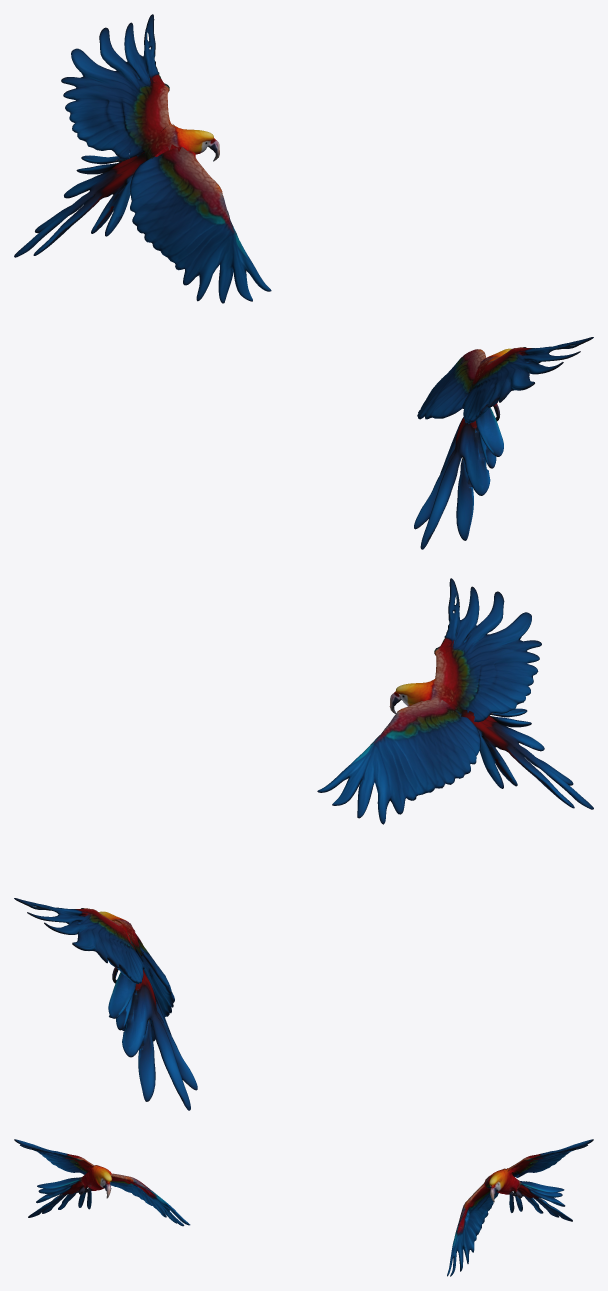
Rendered from Guacamaya.glb.
3 views of the same model, one above another, from view 1: azimuth 30°, elevation 25°; view 2: azimuth 150°, elevation 25°; view 3: azimuth 270°, elevation 25° (orthographic). The views are drawn at different scales.
Parts seen in each view (by area): view 1: tripo_node_5167a12f.004, tripo_node_5167a12f.005, tripo_node_5167a12f.003, tripo_node_5167a12f, tripo_node_5167a12f.002, tripo_node_5167a12f.001; view 2: tripo_node_5167a12f.001, tripo_node_5167a12f.002, tripo_node_5167a12f.003, tripo_node_5167a12f, tripo_node_5167a12f.005, tripo_node_5167a12f.004; view 3: tripo_node_5167a12f.003, tripo_node_5167a12f, tripo_node_5167a12f.004, tripo_node_5167a12f.001, tripo_node_5167a12f.005, tripo_node_5167a12f.002.
Part boxes in pixels (box(x1,y1,x2,y2)): tripo_node_5167a12f.004: box(130, 147, 271, 303); tripo_node_5167a12f.005: box(61, 14, 173, 159); tripo_node_5167a12f.003: box(14, 124, 219, 257); tripo_node_5167a12f: box(414, 348, 511, 549); tripo_node_5167a12f.002: box(462, 337, 593, 423); tripo_node_5167a12f.001: box(417, 349, 485, 419); tripo_node_5167a12f.001: box(317, 697, 480, 824); tripo_node_5167a12f.002: box(434, 578, 541, 722); tripo_node_5167a12f.003: box(99, 911, 197, 1110); tripo_node_5167a12f: box(389, 679, 593, 809); tripo_node_5167a12f.005: box(14, 898, 144, 984); tripo_node_5167a12f.004: box(109, 923, 174, 1041); tripo_node_5167a12f.003: box(488, 1168, 572, 1221); tripo_node_5167a12f: box(28, 1165, 112, 1217); tripo_node_5167a12f.004: box(447, 1175, 498, 1276); tripo_node_5167a12f.001: box(110, 1173, 190, 1226); tripo_node_5167a12f.005: box(506, 1139, 593, 1177); tripo_node_5167a12f.002: box(14, 1139, 94, 1174).
Size of the model in its own units: 2.69 by 3.21 by 12.59.
1 material, 1 textured.
